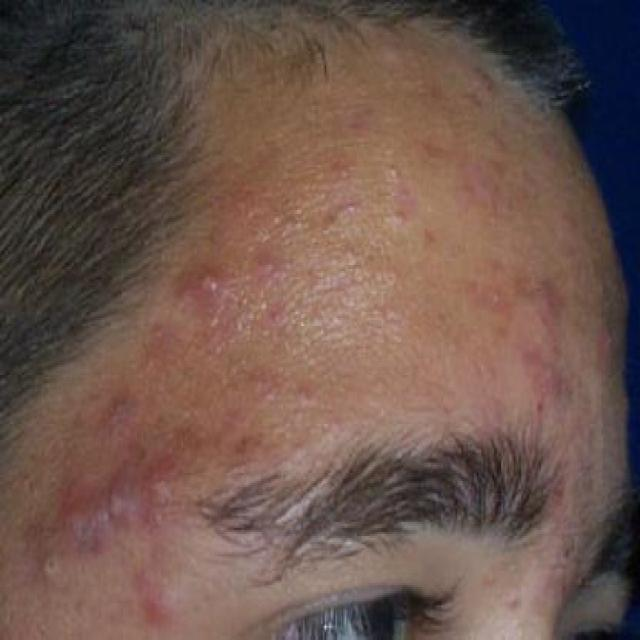blackheads: (378, 202, 417, 232)
nodules: (518, 261, 577, 348), (508, 338, 568, 412), (128, 577, 197, 626)
papules: (60, 498, 109, 556), (102, 471, 140, 530)
pustules: (178, 251, 238, 316)
